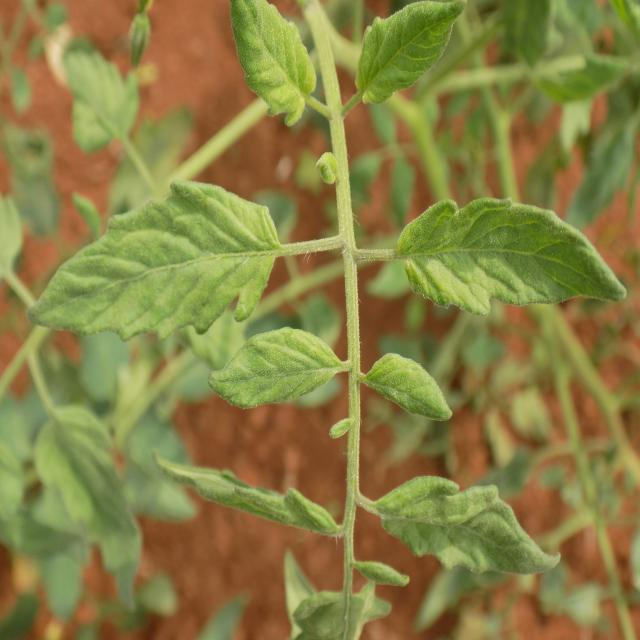tomato_healthy: (41, 181, 281, 341), (400, 197, 626, 328), (380, 477, 560, 590), (354, 0, 468, 108), (230, 0, 327, 126), (209, 328, 343, 411)
